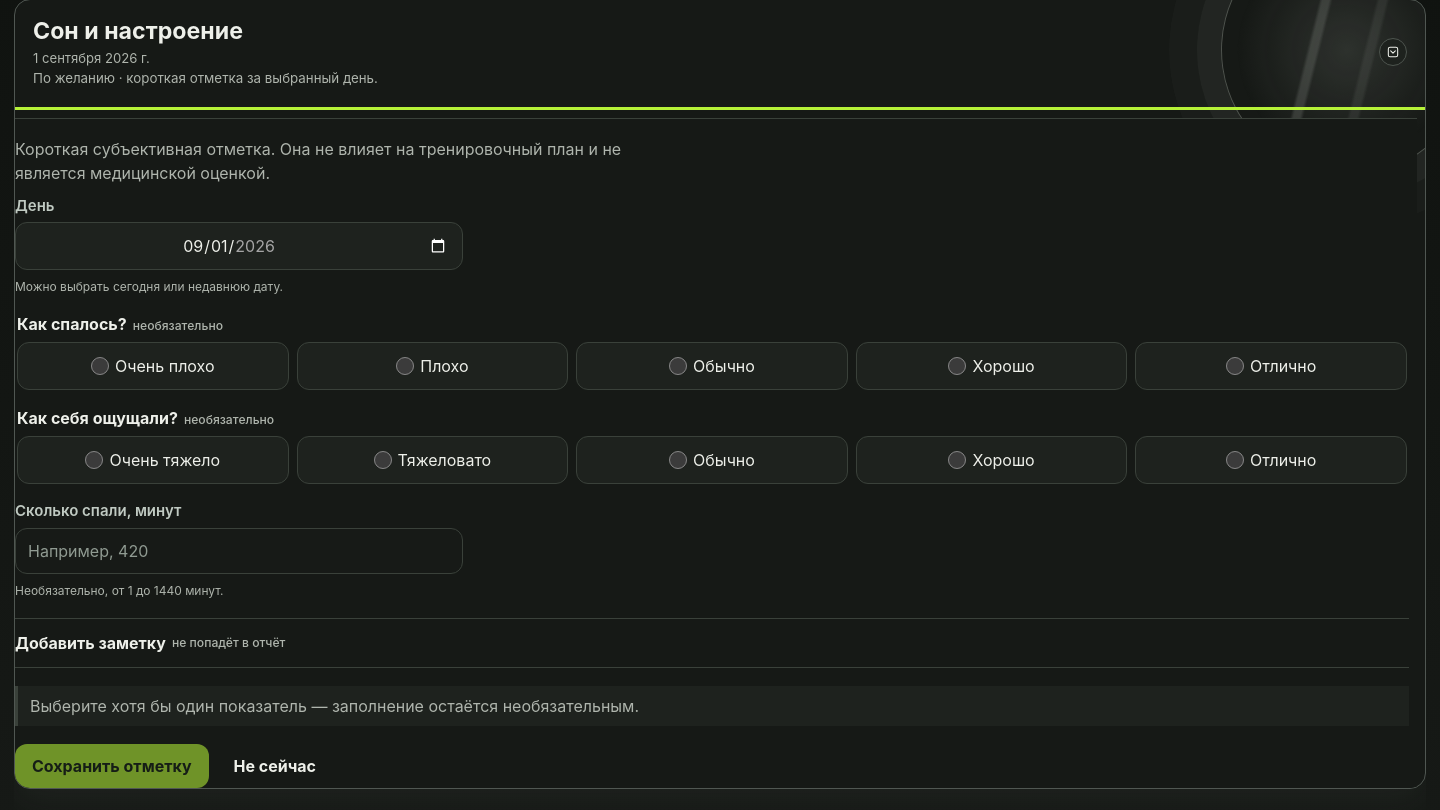
Test case: DailyWellbeingCheckIn › keeps the check-in optional, supports partial data, and saves an observation
This screenshot has width=1440, height=810.
(page scrolled)
Expected: the heading "Сон и настроение" is shown, [33,17,243,45]
Expected: the button "Сохранить отметку" is disabled, [15,744,208,788]
Click the radio button labelled "Хорошо" in the row of "Очень плохо" at {"x": 958, "y": 366}, box [948,358,966,376]
(page scrolled)
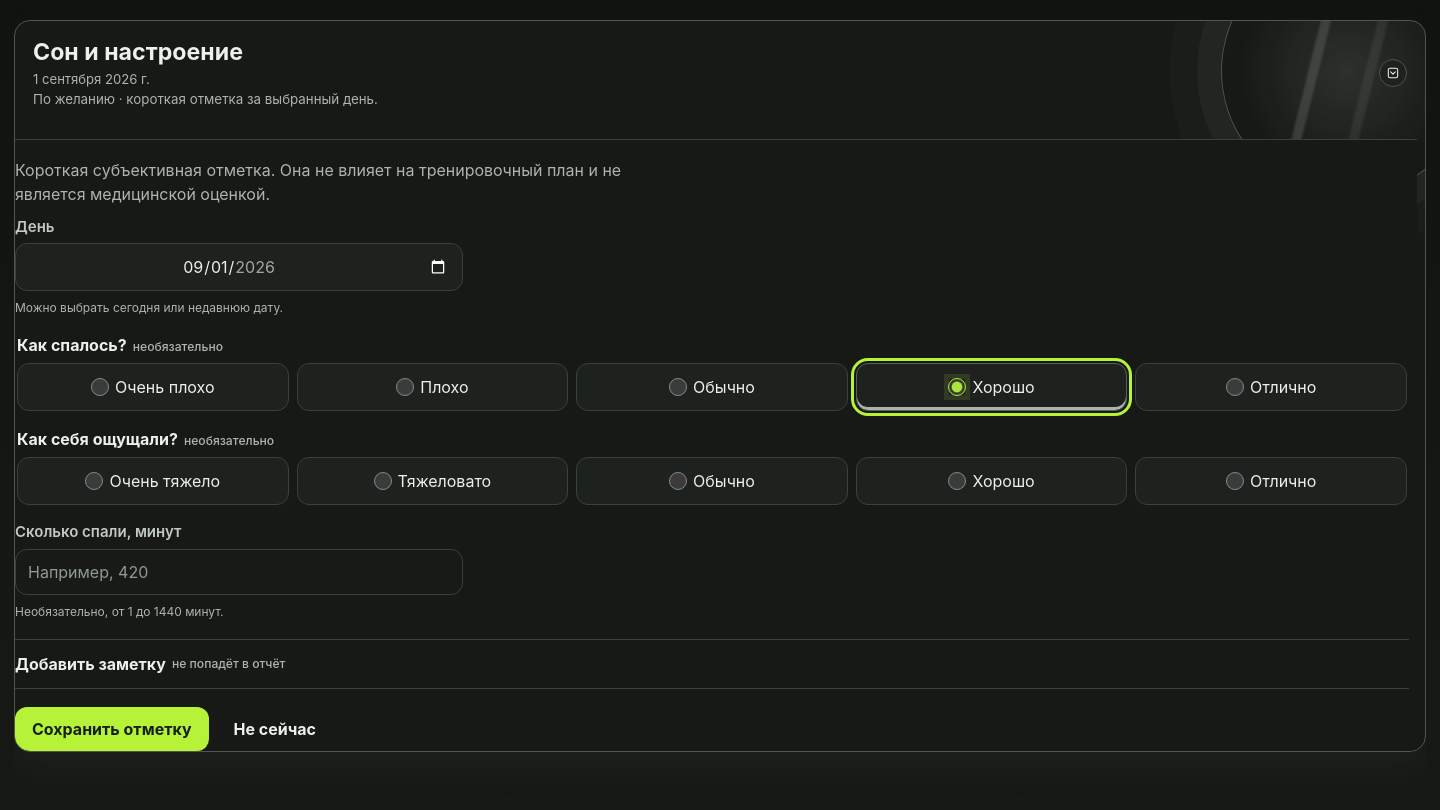
Click the button "Сохранить отметку" at {"x": 112, "y": 729}, box [15,707,208,751]
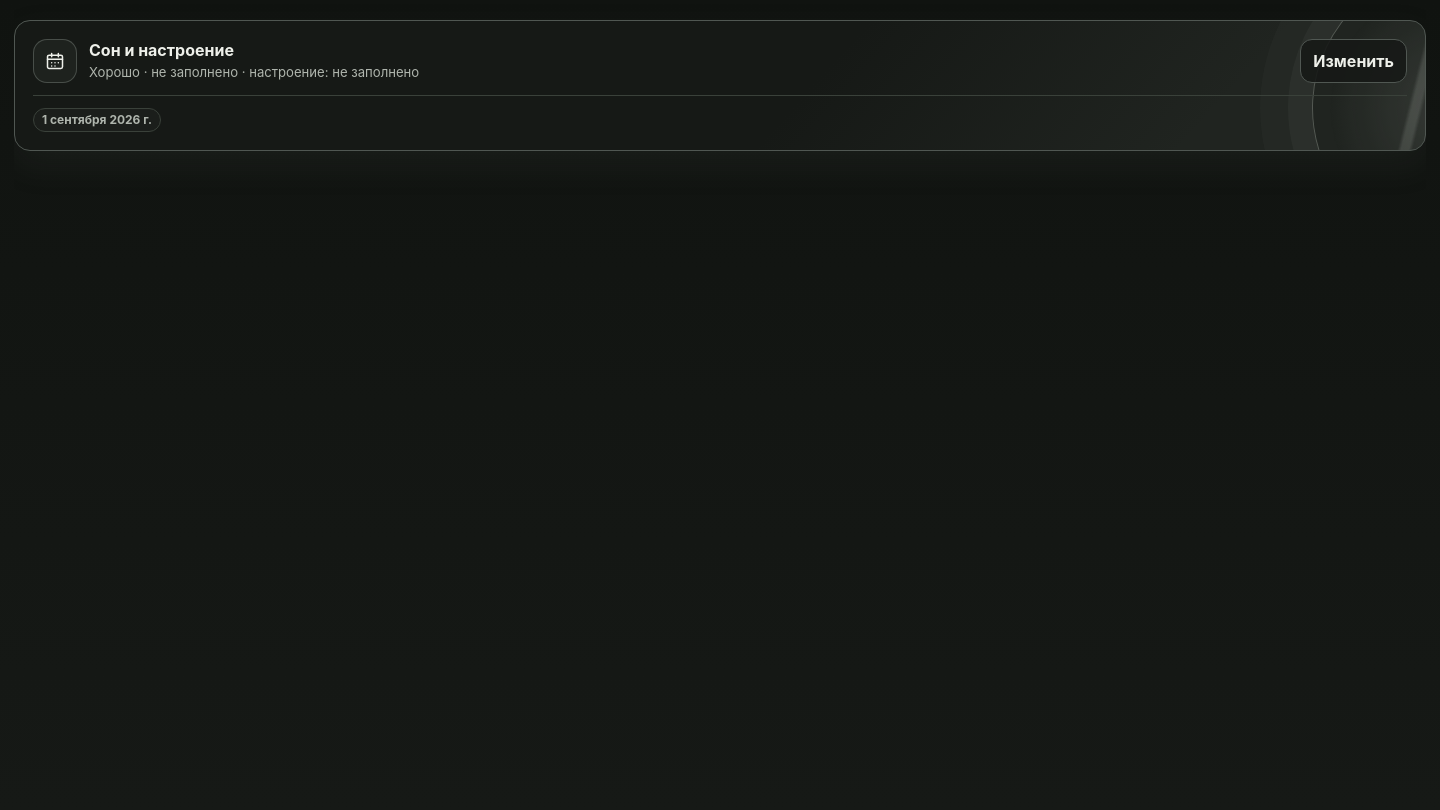
Expected: the button "Изменить" is shown, [1300,39,1407,83]
